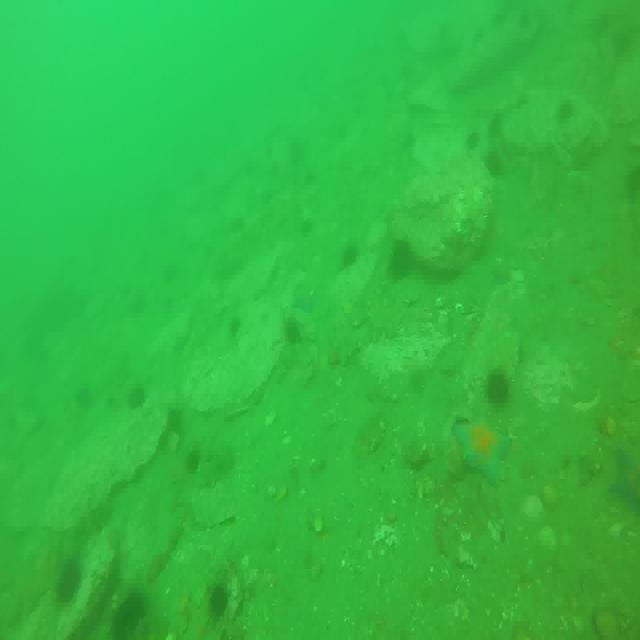echinus: (113, 592, 148, 640), (388, 242, 415, 281), (56, 560, 80, 597), (487, 372, 512, 407), (209, 584, 230, 619), (126, 383, 148, 410), (184, 444, 204, 473), (558, 100, 576, 126), (344, 247, 362, 269), (76, 384, 92, 407), (228, 319, 243, 338)
holothurian: (198, 446, 236, 491)
starfish: (452, 412, 512, 485), (610, 448, 640, 519), (291, 280, 317, 312)
